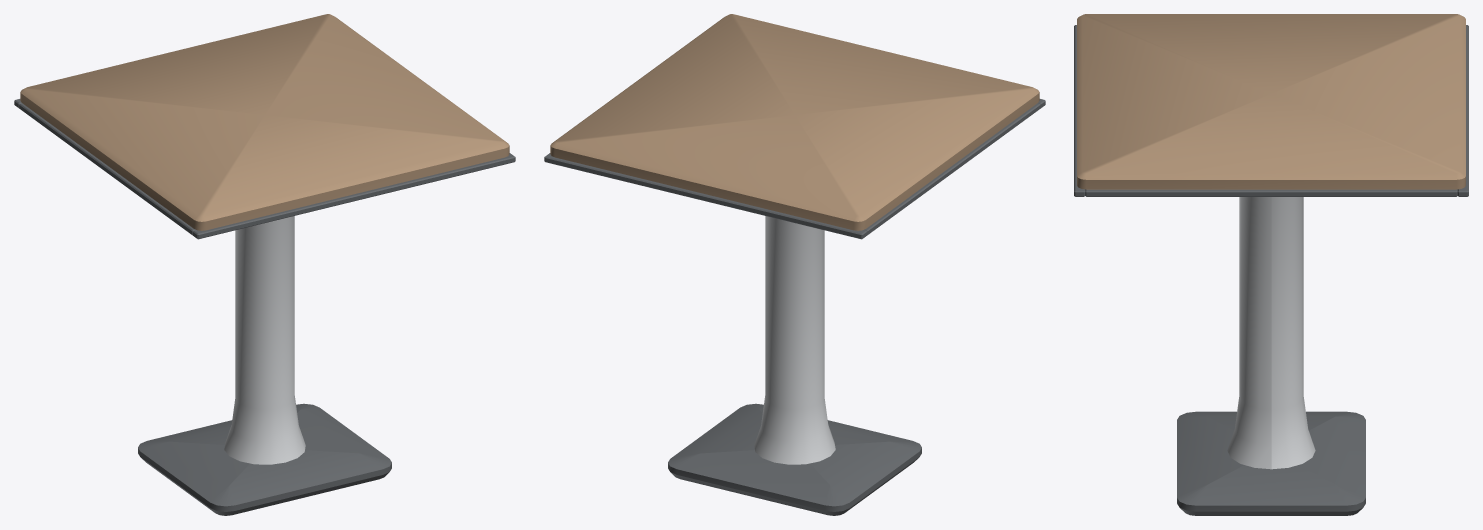
The model's file is restTable.glb.
The picture shows the model from 3 angles, left to right: view 1: azimuth 30°, elevation 25°; view 2: azimuth 150°, elevation 25°; view 3: azimuth 270°, elevation 25°; orthographic projection. The views are drawn at different scales.
Parts seen in each view (by area): view 1: table-square-2; view 2: table-square-2; view 3: table-square-2.
Boxes of the visible parts, left/top/right/bottom form: table-square-2: left=14, top=14, right=515, bottom=515; table-square-2: left=544, top=14, right=1045, bottom=515; table-square-2: left=1074, top=14, right=1468, bottom=515.
Size of the model in its own units: 0.71 by 0.75 by 0.71.
